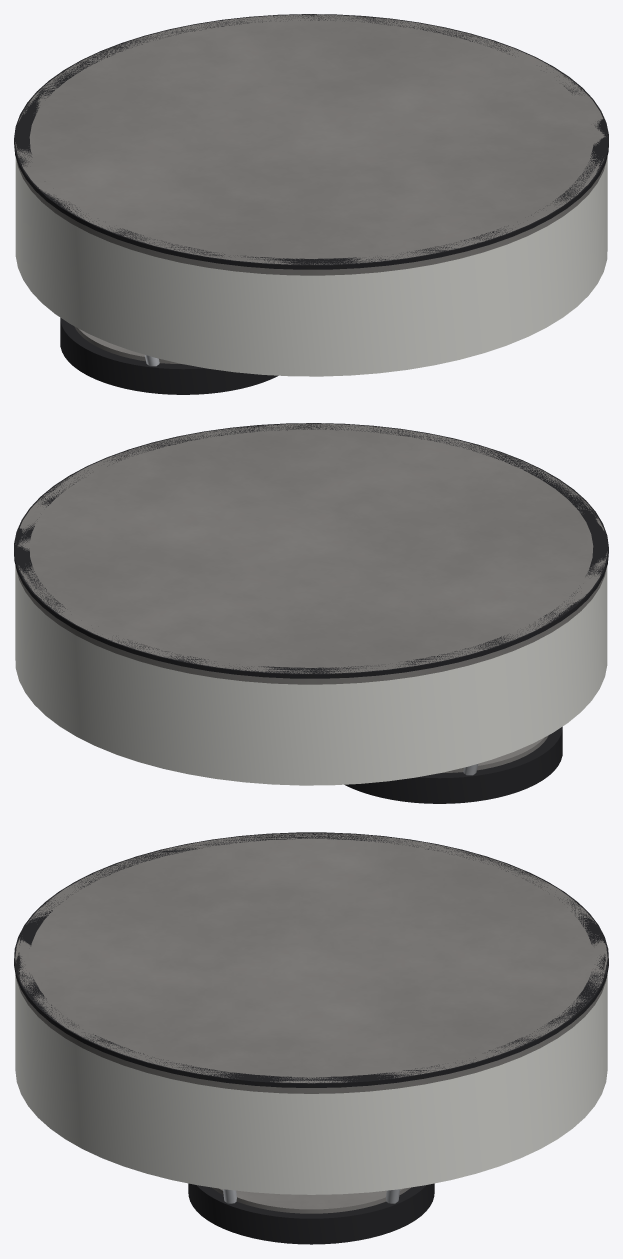
Rendered from stage12_multi_coupler_bi_m_s.glb.
3 renders of one model, top to bottom at view 1: azimuth 30°, elevation 25°; view 2: azimuth 150°, elevation 25°; view 3: azimuth 270°, elevation 25°, orthographic.
Parts seen in each view (by area): view 1: thrust_plate, skirt, top_flange, engine_mounts, mount_plates; view 2: thrust_plate, skirt, top_flange, engine_mounts, mount_plates; view 3: thrust_plate, skirt, top_flange, engine_mounts, mount_plates.
Boxes of the visible parts, left/top/right/bottom form: thrust_plate: left=15, top=14, right=607, bottom=275; skirt: left=15, top=156, right=607, bottom=376; top_flange: left=14, top=14, right=608, bottom=269; engine_mounts: left=60, top=317, right=278, bottom=394; mount_plates: left=74, top=326, right=182, bottom=364; thrust_plate: left=15, top=423, right=607, bottom=684; skirt: left=15, top=565, right=607, bottom=785; top_flange: left=14, top=423, right=608, bottom=678; engine_mounts: left=344, top=726, right=562, bottom=803; mount_plates: left=440, top=735, right=548, bottom=773; thrust_plate: left=15, top=833, right=607, bottom=1093; skirt: left=15, top=974, right=607, bottom=1194; top_flange: left=14, top=832, right=608, bottom=1087; engine_mounts: left=188, top=1183, right=434, bottom=1244; mount_plates: left=212, top=1187, right=410, bottom=1213.
Size of the model in its own units: 2.51 by 0.8 by 2.51.
4 materials, 2 textured.
